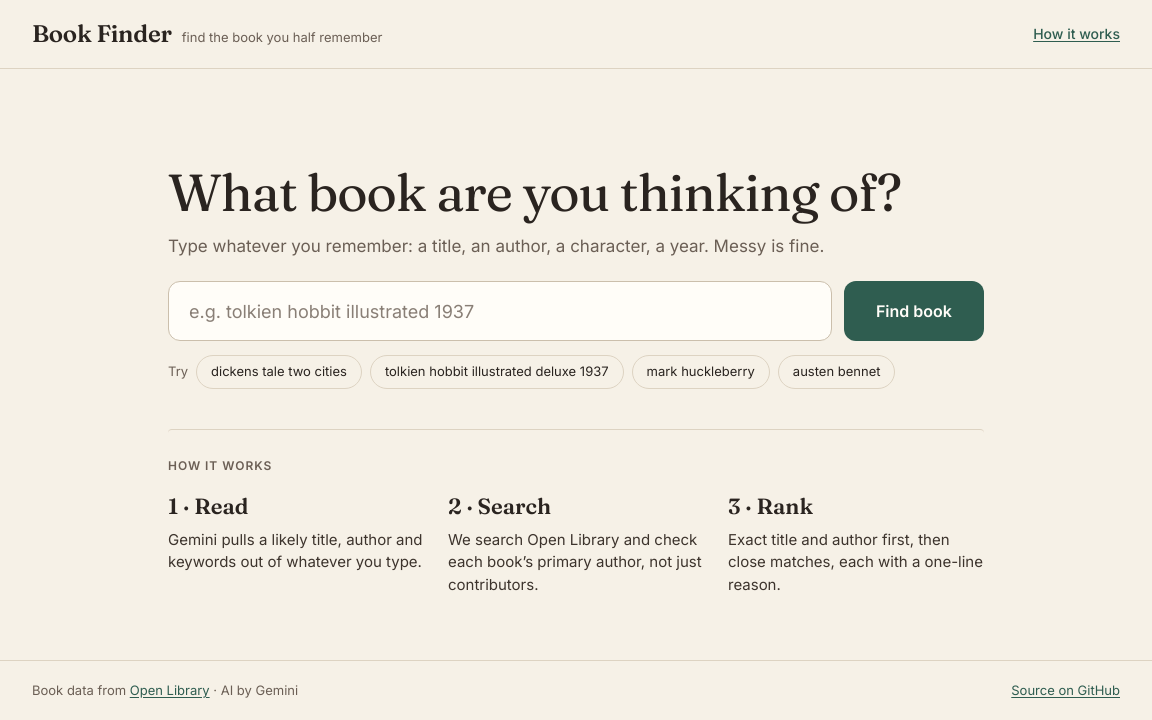
Test case: App › says why the AI was unavailable when the API knows
Type "tolkien hobbit" into the search field labelled "What book are you thinking of?" at [500, 311], box [168,281,832,341]
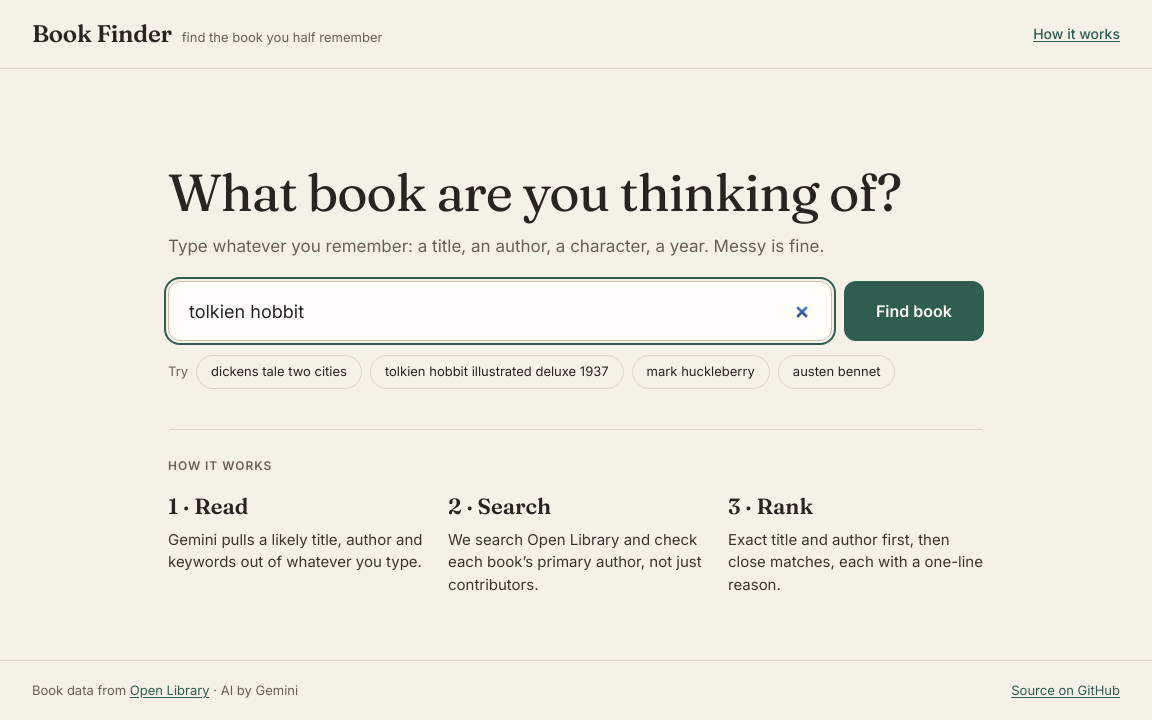
Click the button "Find book" at [914, 311], box [844,281,984,341]
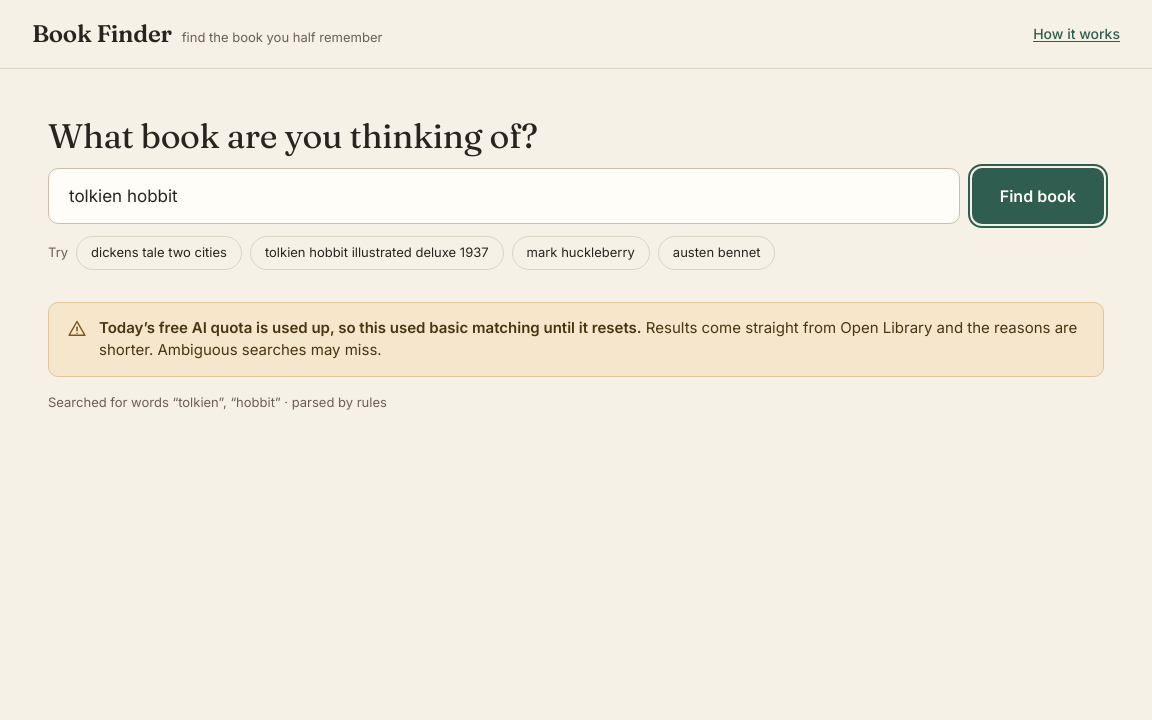
Expected: the text "Today’s free AI quota is used up" is shown, [99,318,642,337]
